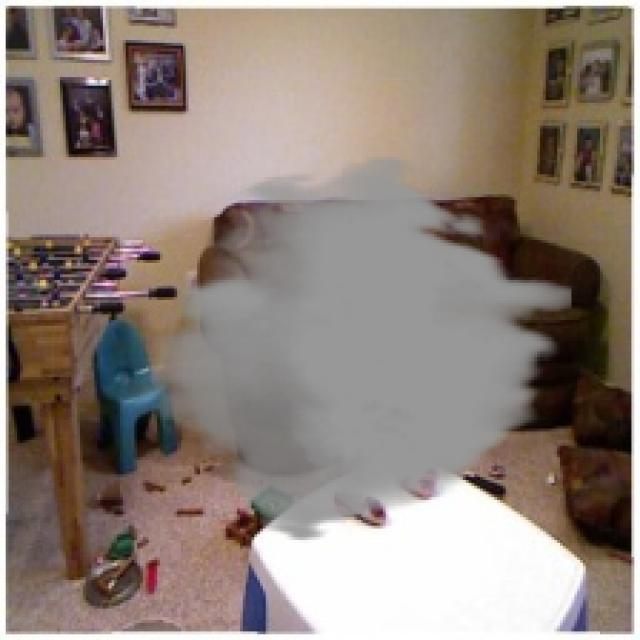smoke: (152, 154, 572, 543)
